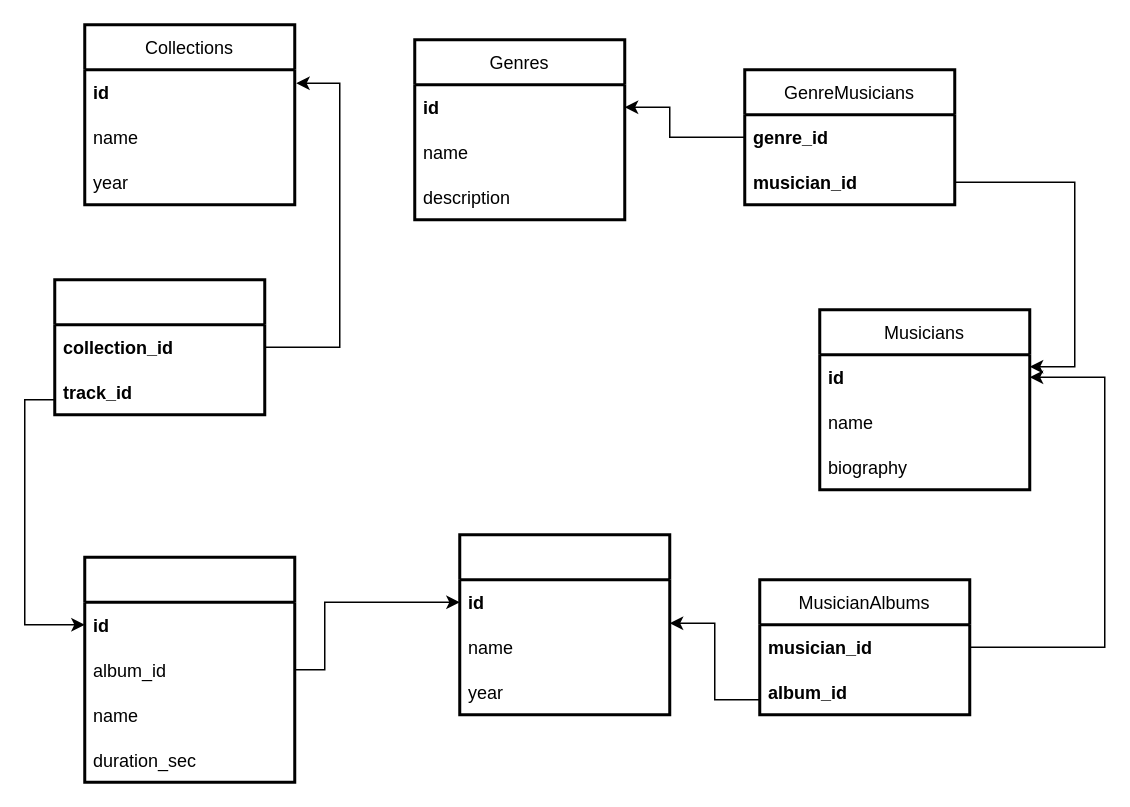
This 1130x807 diagram has some shape labels left out. Here are the shapes that lost their labels. From the top down, the box of each, then its label:
(52, 278, 266, 416): CollectionTracks
(458, 532, 670, 716): Albums
(82, 555, 296, 783): Tracks
